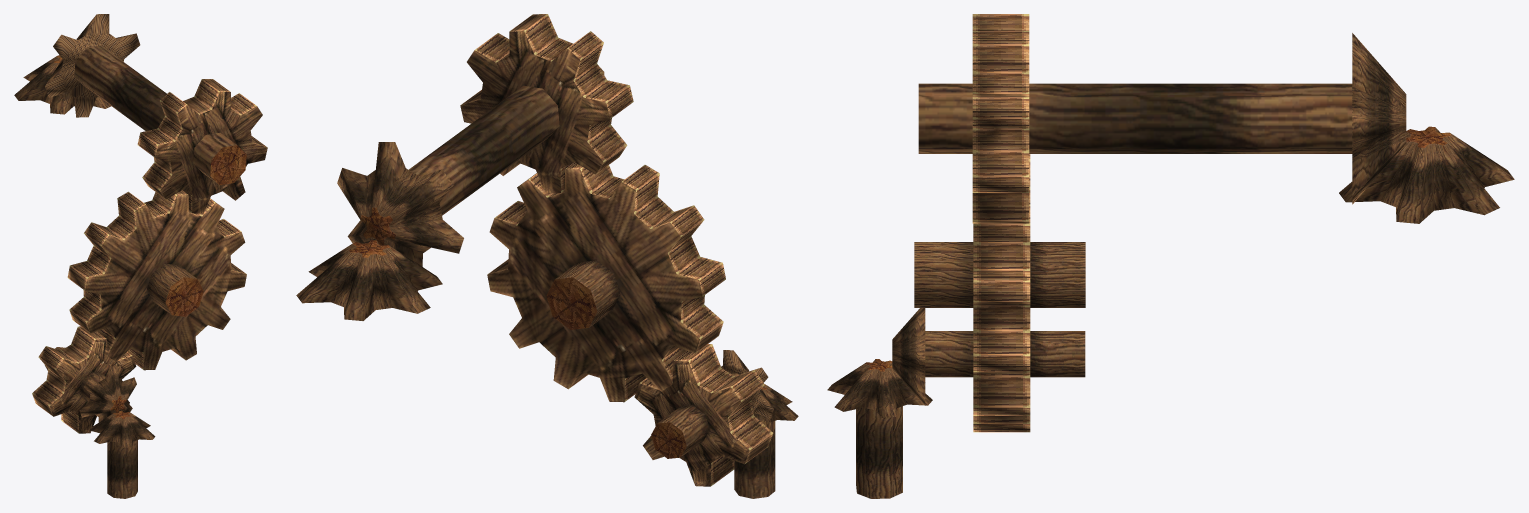
The model's file is INST_SWORDLIGHT_GEARSC.fbx.
3 renders of one model, left to right at view 1: azimuth 30°, elevation 25°; view 2: azimuth 150°, elevation 25°; view 3: azimuth 270°, elevation 25°, orthographic. The views are drawn at different scales.
Parts seen in each view (by area): view 1: INST_SWORDLIGHT_GEARSC; view 2: INST_SWORDLIGHT_GEARSC; view 3: INST_SWORDLIGHT_GEARSC.
Part boxes in pixels (x1=…): INST_SWORDLIGHT_GEARSC: x1=14, y1=14, x2=267, y2=498; INST_SWORDLIGHT_GEARSC: x1=296, y1=14, x2=798, y2=498; INST_SWORDLIGHT_GEARSC: x1=827, y1=14, x2=1514, y2=498.
Bounding box in the file's own units: 28251 × 43197 × 48392.
Materials: 4 (4 with a texture image).
